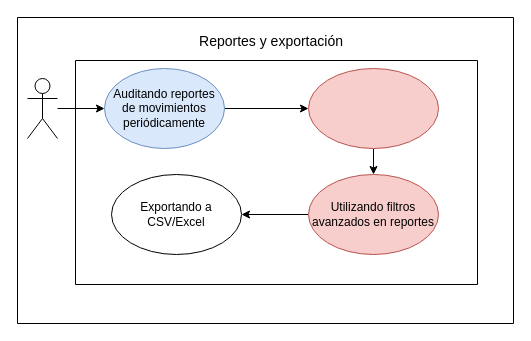
Some shapes in this 531 by 341 pixel diagram are drawn without their labels. Here are the shapes that lost their labels. From the top down, the box of each, then its label:
(26, 78, 58, 138): JOP
(308, 68, 438, 148): Solicitando aprobación gerencial para merma de producto crítico
